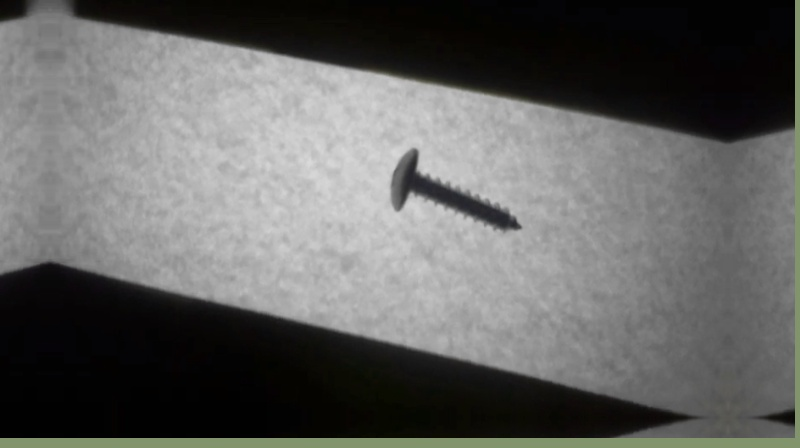S003: (387, 145, 528, 238)
